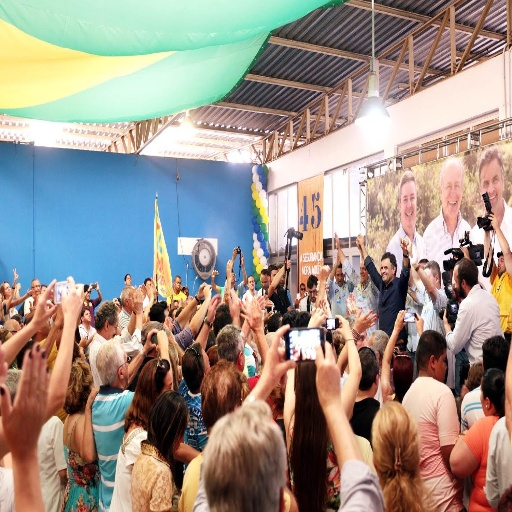hand: (0, 342, 49, 454), (260, 322, 297, 389), (314, 340, 342, 408), (33, 279, 59, 328), (59, 273, 85, 318), (354, 303, 378, 332), (307, 306, 328, 333), (246, 297, 261, 330), (225, 288, 239, 322), (205, 293, 220, 324), (334, 313, 351, 337), (129, 286, 142, 315), (144, 328, 158, 353), (154, 330, 168, 354), (394, 309, 407, 332), (408, 242, 418, 268), (487, 211, 499, 232), (87, 387, 99, 407), (441, 307, 451, 326), (225, 258, 234, 279), (197, 281, 207, 298), (415, 313, 423, 332), (320, 264, 330, 279), (315, 297, 327, 309), (77, 336, 88, 349), (204, 283, 211, 302), (399, 238, 408, 252), (356, 233, 364, 248), (462, 244, 470, 259), (334, 232, 339, 249), (335, 250, 340, 267), (150, 278, 155, 294), (264, 311, 271, 321), (285, 261, 292, 271), (146, 287, 152, 298), (94, 280, 99, 291), (14, 270, 18, 281), (26, 289, 31, 297)
